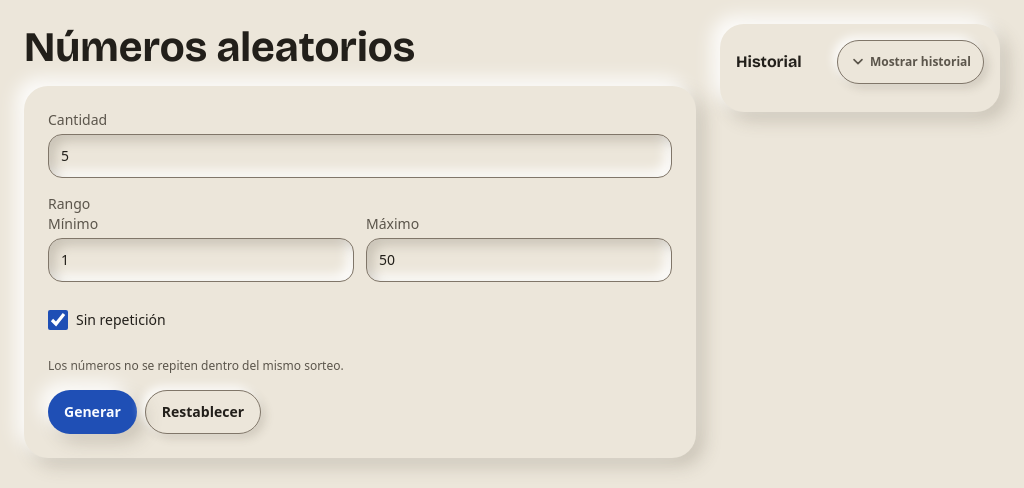
Test case: NumbersPage — formulario › el mínimo se aplica al salir del campo
Step 1. Replace the text in the number field labelled "Cantidad" with "0" → (360, 156), box [48, 134, 672, 178]
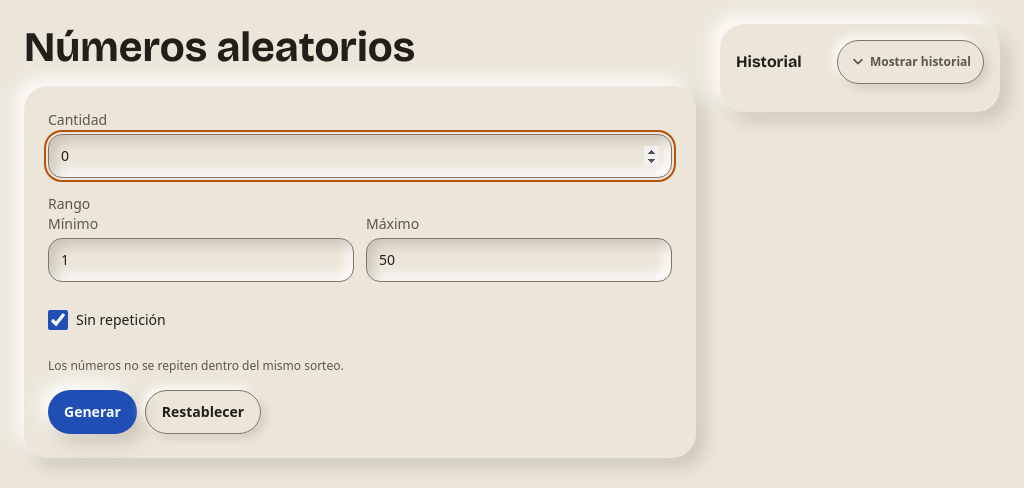
Step 2. Press Tab
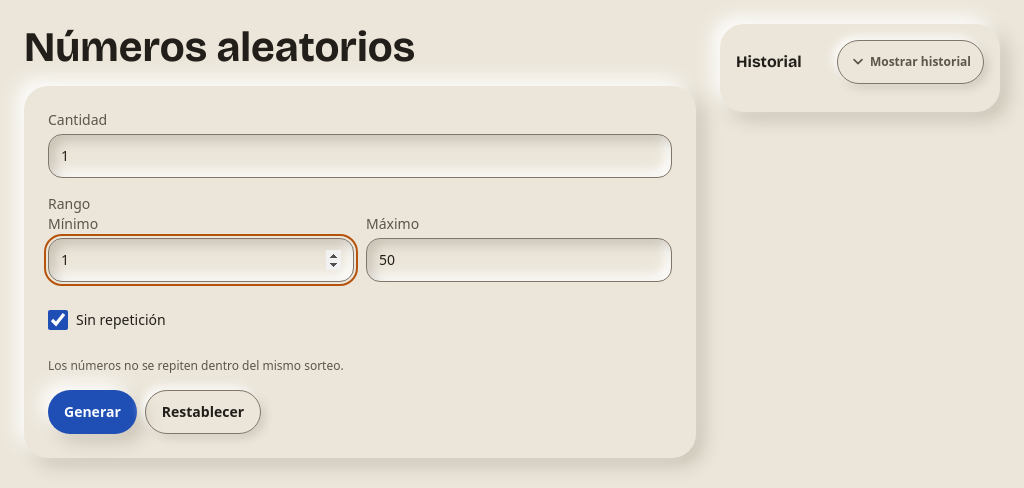
Check: the number field labelled "Cantidad" holds "1", box [48, 134, 672, 178]
